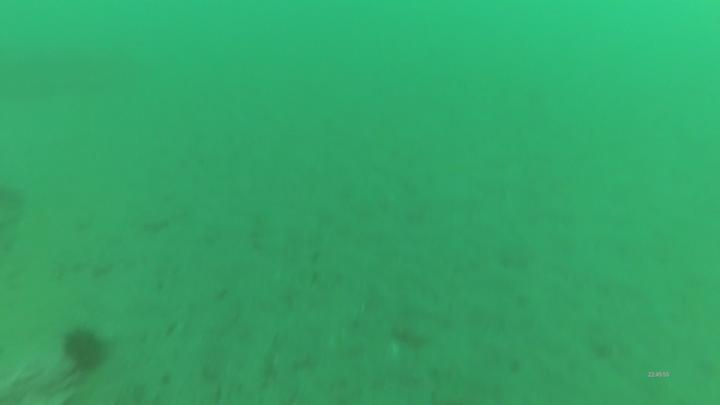echinus: (58, 328, 110, 377)
